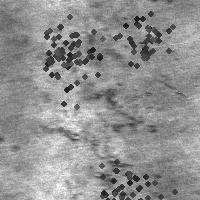rolled-in_scale: (47, 89, 158, 197), (18, 3, 118, 103), (39, 27, 158, 94), (103, 1, 183, 81), (67, 143, 171, 200)
